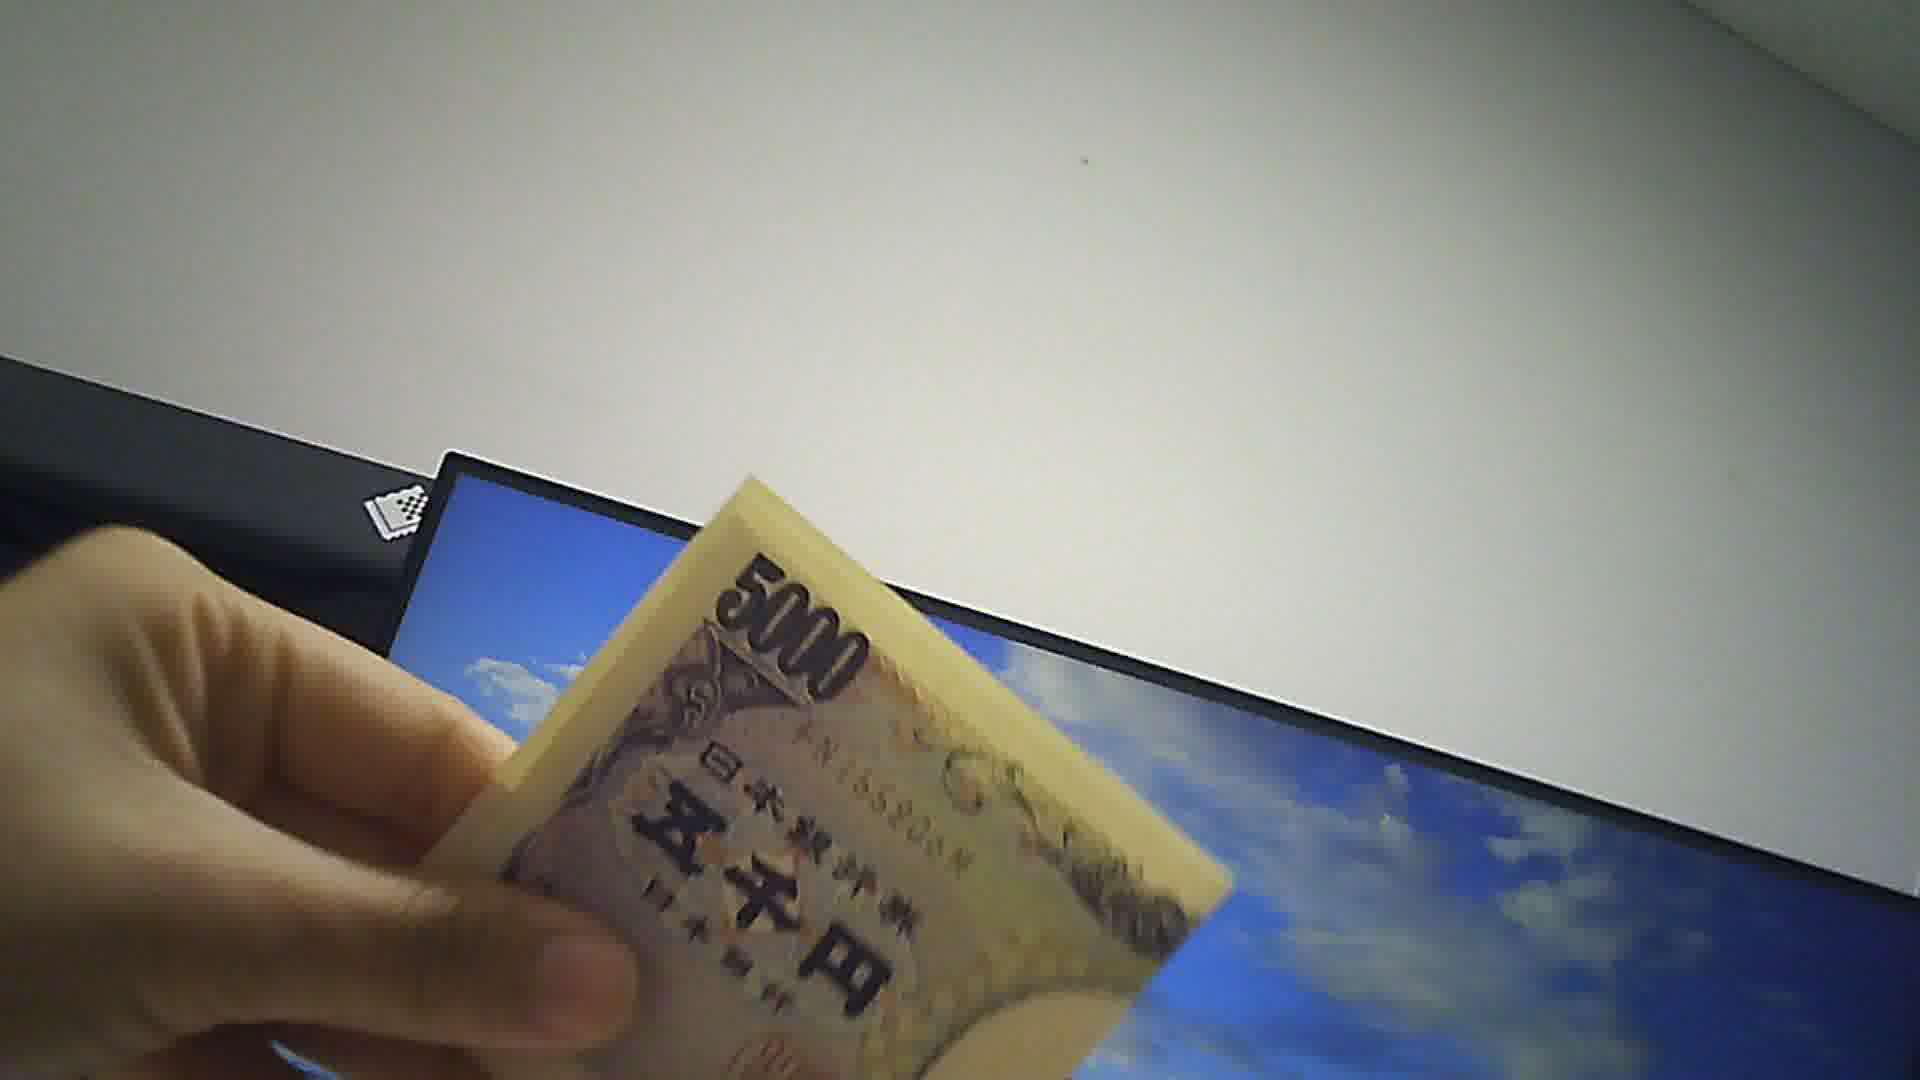5,000 Yen: (402, 476, 1226, 1079)
